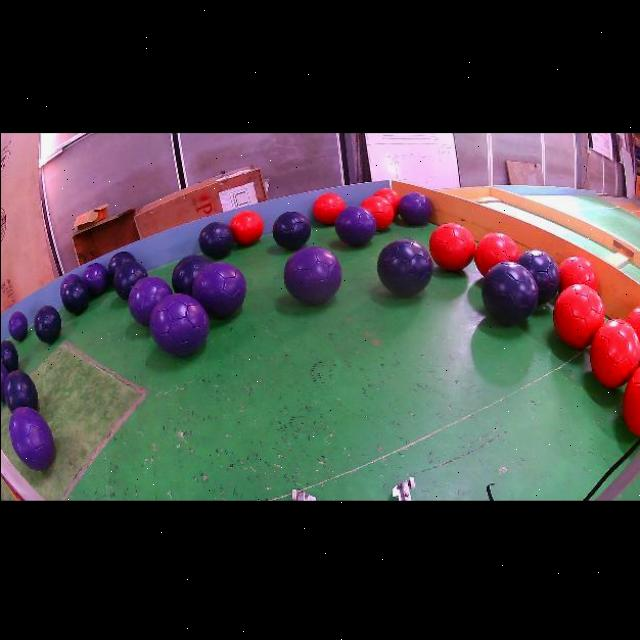B: (481, 260, 538, 324), (376, 238, 433, 296), (516, 248, 559, 303), (171, 254, 209, 294), (272, 210, 310, 250), (3, 370, 38, 411), (112, 260, 146, 299), (198, 222, 233, 258), (33, 305, 61, 342), (61, 278, 89, 314), (107, 251, 135, 282), (0, 339, 17, 372)
P: (148, 293, 208, 356), (283, 246, 341, 303), (191, 261, 246, 317), (8, 406, 54, 471), (127, 275, 171, 326), (334, 205, 375, 246), (397, 191, 431, 224), (80, 262, 107, 297), (7, 310, 28, 340), (0, 362, 7, 400)
R: (589, 319, 640, 388), (553, 283, 604, 348), (428, 223, 475, 270), (474, 232, 518, 274), (558, 255, 598, 291), (622, 365, 640, 435), (230, 210, 263, 245), (360, 195, 393, 229), (313, 192, 345, 223), (626, 305, 640, 362), (373, 187, 399, 216)
